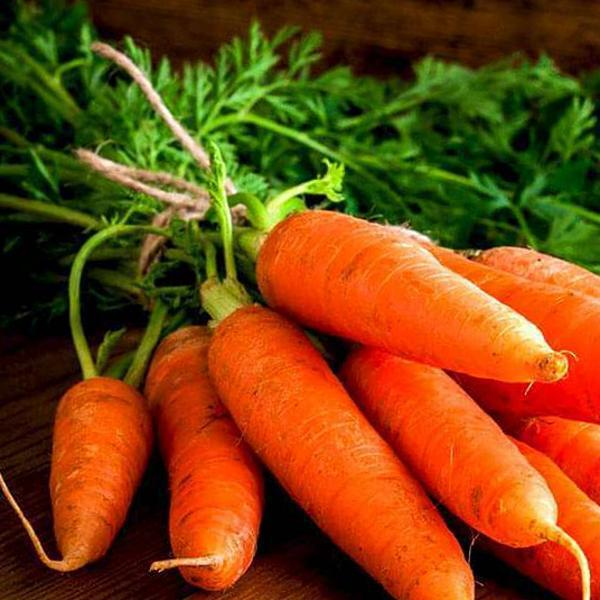carrot: (242, 193, 600, 598), (217, 275, 600, 600), (138, 316, 265, 588), (51, 367, 145, 567)
